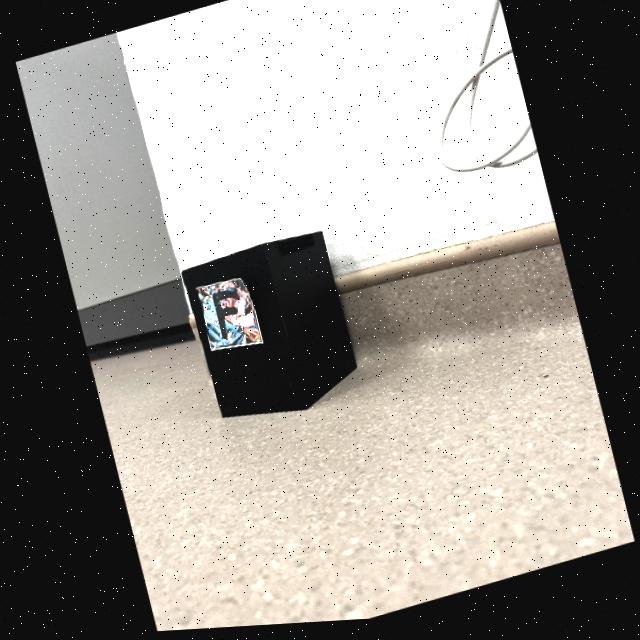F: (212, 292, 237, 341)
